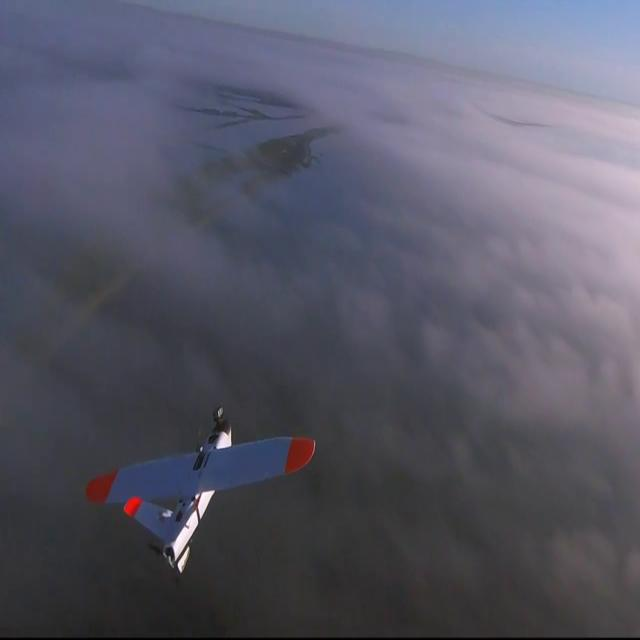iha: (78, 403, 312, 575)
